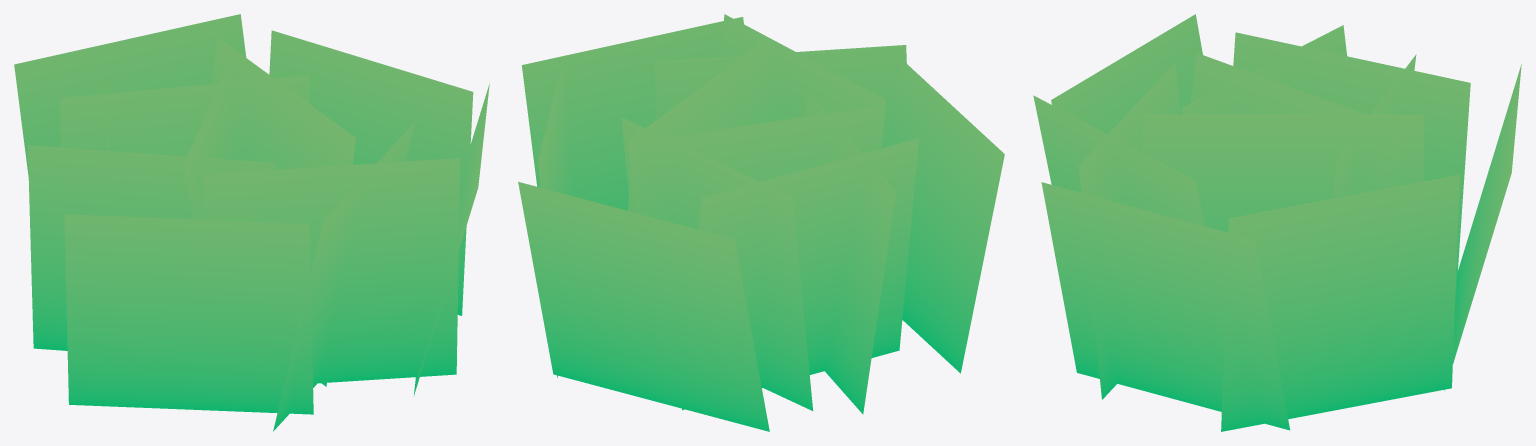
The model's file is Grass_0.4m_B_01.fbx.
3 views of the same model, side by side, from view 1: azimuth 30°, elevation 25°; view 2: azimuth 150°, elevation 25°; view 3: azimuth 270°, elevation 25° (orthographic).
Visible parts, largest first — view 1: Grass_0.4m_B_01; view 2: Grass_0.4m_B_01; view 3: Grass_0.4m_B_01.
Boxes of the visible parts, box(x1,y1,x2,y2) form: Grass_0.4m_B_01: box(14, 14, 489, 431); Grass_0.4m_B_01: box(518, 14, 1004, 431); Grass_0.4m_B_01: box(1033, 14, 1521, 431).
Size of the model in its own units: 0.8023 by 0.4074 by 0.7348.
